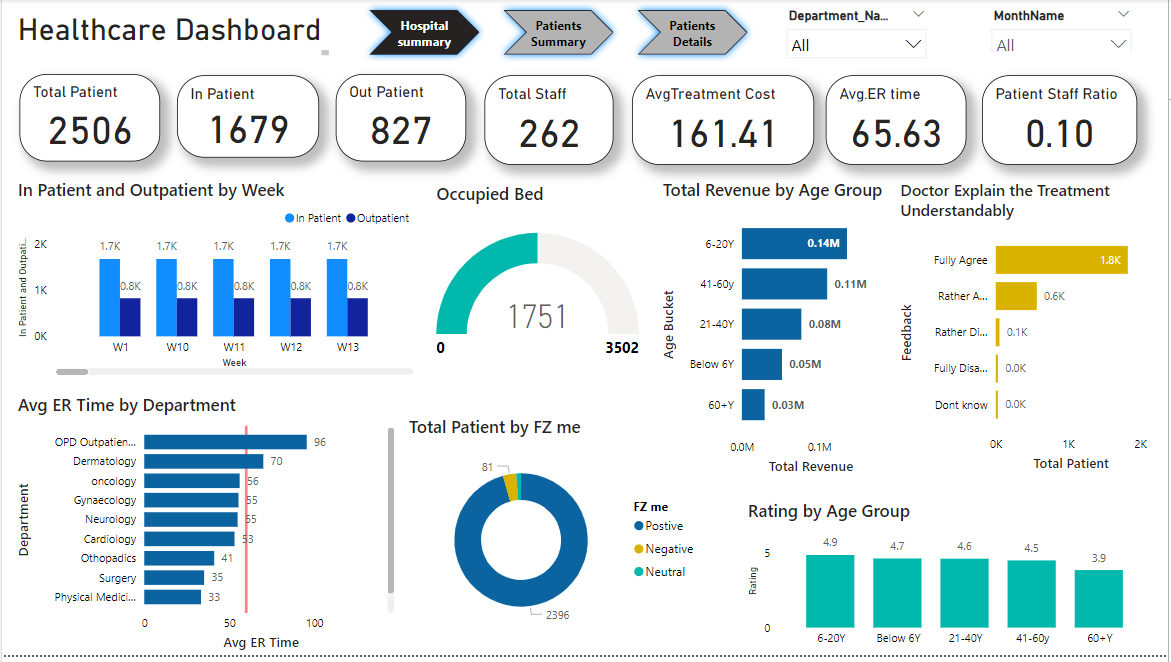

What the dashboard file says about the page in this screenshot:
{"tool":"powerbi","page":{"name":"Hospital summary","canvas":[1280,720],"ordinal":0},"visuals":[{"type":"textbox","title":"Healthcare Dashboard","box":[12.9,14.3,351.4,52.9],"z":0},{"type":"pageNavigator","box":[395.7,4.3,432.9,65.7],"z":1000},{"type":"card","title":"Total Patient","fields":{"Values":["Measure_table.Total Patient"]},"box":[18.6,82.9,154.3,95.7],"z":2000},{"type":"card","title":"In Patient","fields":{"Values":["Measure_table.In Patient"]},"box":[192,84.3,155.7,90],"z":3000},{"type":"card","title":"Total Staff","fields":{"Values":["Bed_Detail.total Staff"]},"box":[530,84.3,141.4,98.6],"z":4000},{"type":"card","title":"AvgTreatment Cost","fields":{"Values":["Measure_table.Avg Treatment Cost"]},"box":[691.4,84.3,200,98.6],"z":5000},{"type":"card","title":"Avg.ER time","fields":{"Values":["Measure_table.Avg ER Time"]},"box":[904.3,84.3,154.3,98.6],"z":6000},{"type":"card","title":"Patient Staff Ratio","fields":{"Values":["Bed_Detail.Patient Staff Ratio"]},"box":[1075.7,84.3,170,98.6],"z":7000},{"type":"card","title":"Out Patient","fields":{"Values":["Measure_table.Outpatient"]},"box":[365.7,82.9,142.9,95.7],"z":8000},{"type":"slicer","fields":{"Values":["Department.Department_Name"]},"box":[851.4,4.3,174.3,70],"z":9000},{"type":"slicer","fields":{"Values":["Calendar_date.MonthName"]},"box":[1075.7,4.3,174.3,54.3],"z":10000},{"type":"clusteredColumnChart","fields":{"Y":["Measure_table.In Patient","Measure_table.Outpatient"],"Category":["Calendar_date.WeekName"]},"box":[12.3,196.1,444.2,222.1],"z":11000},{"type":"gauge","fields":{"Y":["Measure_table.Occupied Bed"]},"box":[471.9,200.5,232.3,231],"z":12000},{"type":"clusteredBarChart","title":"Total Revenue by Age Group","fields":{"Y":["Measure_table.Total Revenue"],"Category":["Detail data dataset.Age Bucket"]},"box":[720,195.6,262.8,331.3],"z":13000},{"type":"barChart","title":"Doctor Explain the Treatment Understandably","fields":{"Y":["Measure_table.Total Patient"],"Category":["Detail data dataset.Feedback"]},"box":[981.2,197.5,287.5,326.2],"z":14000},{"type":"barChart","fields":{"Y":["Measure_table.Avg ER Time"],"Category":["Department.Department_Name"]},"box":[12.3,431.9,423.7,287.9],"z":15000},{"type":"donutChart","fields":{"Y":["Measure_table.Total Patient"],"Category":["Detail data dataset.FZ me"]},"box":[441.3,457.2,331.3,249.4],"z":16000},{"type":"columnChart","title":"Rating by Age Group","fields":{"Y":["Measure_table.Rating"],"Category":["Detail data dataset.Age Bucket"]},"box":[814.4,548.4,453.8,171.4],"z":17000}]}

Visuals, with their boxes in screenshot pixels (x1, y1, x2, y2), scaled from the page's 1280x720 canvas onto the 1171x662 screenshot:
"Healthcare Dashboard" textbox: 12, 13, 333, 62
pageNavigator: 362, 4, 758, 64
"Total Patient" card: 17, 76, 158, 164
"In Patient" card: 176, 78, 318, 160
"Total Staff" card: 485, 78, 614, 168
"AvgTreatment Cost" card: 633, 78, 815, 168
"Avg.ER time" card: 827, 78, 968, 168
"Patient Staff Ratio" card: 984, 78, 1140, 168
"Out Patient" card: 335, 76, 465, 164
slicer - Department.Department_Name: 779, 4, 938, 68
slicer - Calendar_date.MonthName: 984, 4, 1144, 54
clusteredColumnChart - Measure_table.In Patient x Measure_table.Outpatient: 11, 180, 418, 385
gauge - Measure_table.Occupied Bed: 432, 184, 644, 397
"Total Revenue by Age Group" clusteredBarChart: 659, 180, 899, 484
"Doctor Explain the Treatment Understandably" barChart: 898, 182, 1161, 482
barChart - Measure_table.Avg ER Time x Department.Department_Name: 11, 397, 399, 661
donutChart - Measure_table.Total Patient x Detail data dataset.FZ me: 404, 420, 707, 650
"Rating by Age Group" columnChart: 745, 504, 1160, 661
